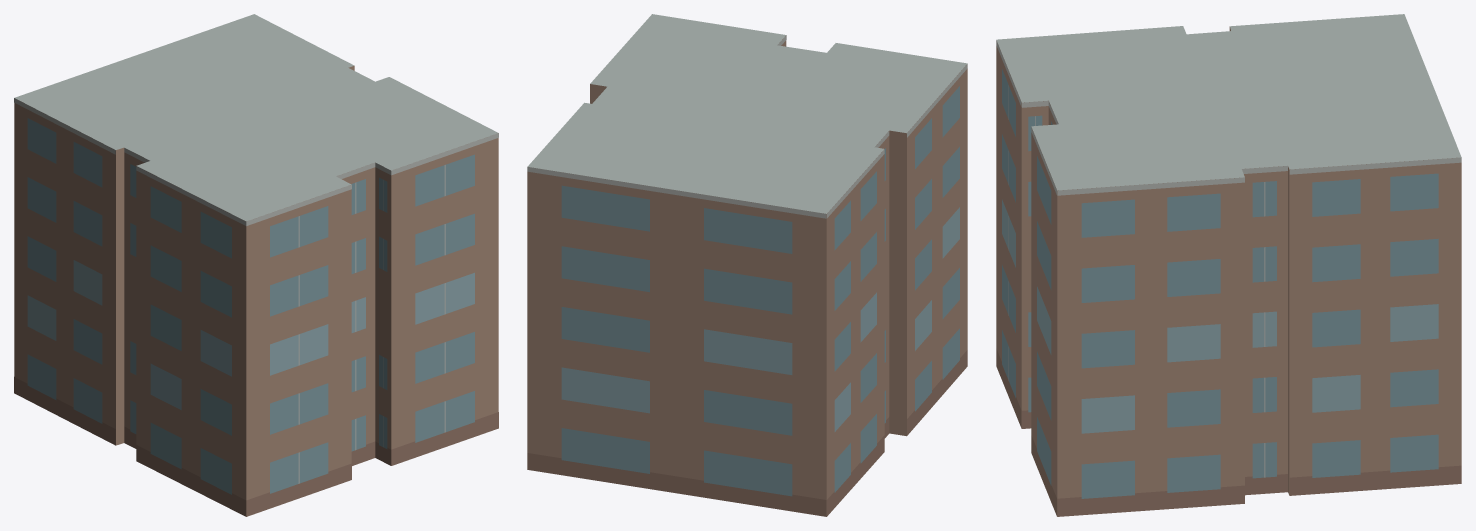
The model's file is survey-upis-32684555.glb.
3 views of the same model, side by side, from view 1: azimuth 30°, elevation 25°; view 2: azimuth 150°, elevation 25°; view 3: azimuth 270°, elevation 25° (orthographic). The views are drawn at different scales.
Visible parts, largest first — view 1: survey-upis-32684555.tmp; view 2: survey-upis-32684555.tmp; view 3: survey-upis-32684555.tmp.
Boxes of the visible parts, <box> form: survey-upis-32684555.tmp: <box>14,14,498,516</box>; survey-upis-32684555.tmp: <box>527,14,967,516</box>; survey-upis-32684555.tmp: <box>996,14,1461,516</box>.
Size of the model in its own units: 17.7 by 15.25 by 19.72.
